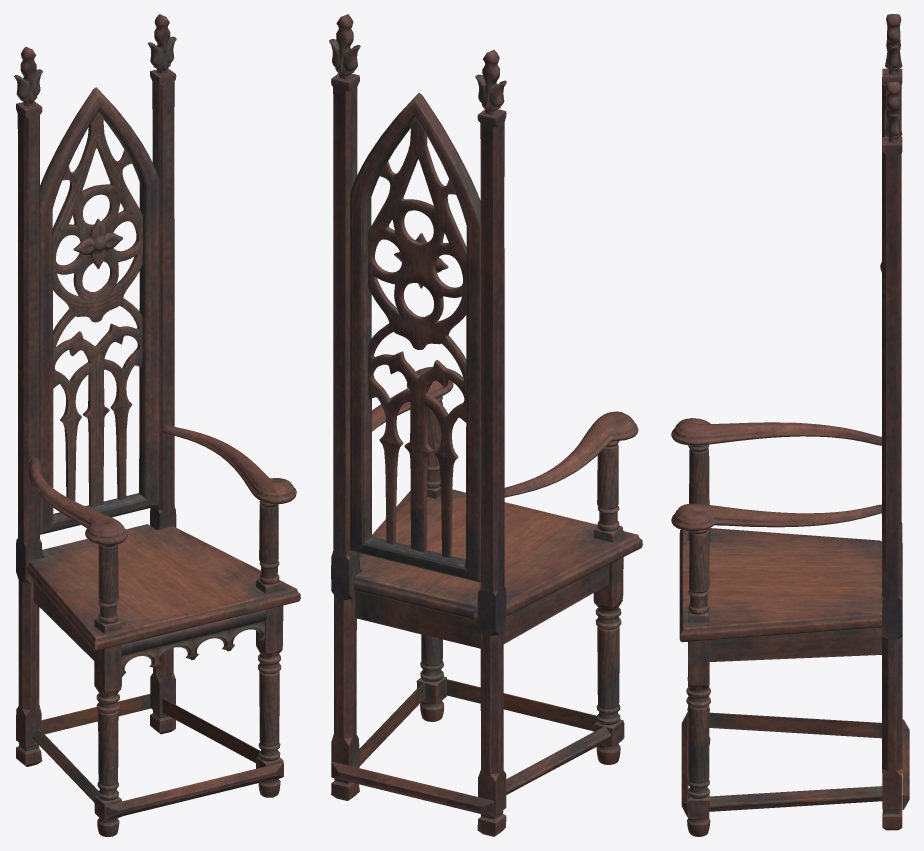
Rendered from detail.fbx.
3 renders of one model, left to right at view 1: azimuth 30°, elevation 25°; view 2: azimuth 150°, elevation 25°; view 3: azimuth 270°, elevation 25°, orthographic. The views are drawn at different scales.
Visible parts, largest first — view 1: WoodenChair_01; view 2: WoodenChair_01; view 3: WoodenChair_01.
Boxes of the visible parts, x1,y1,x2,y2 form: WoodenChair_01: [14, 14, 300, 836]; WoodenChair_01: [329, 14, 642, 836]; WoodenChair_01: [671, 14, 909, 836].
Bounding box in the file's own units: 68.82 × 227 × 65.85.
